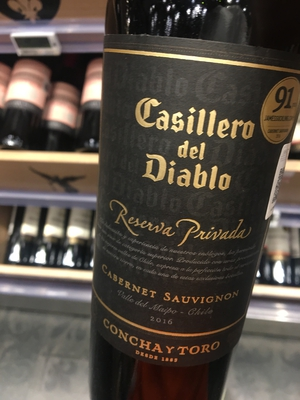casillero del diablo reserva privada cabernet sauvignon: (96, 6, 300, 385)
